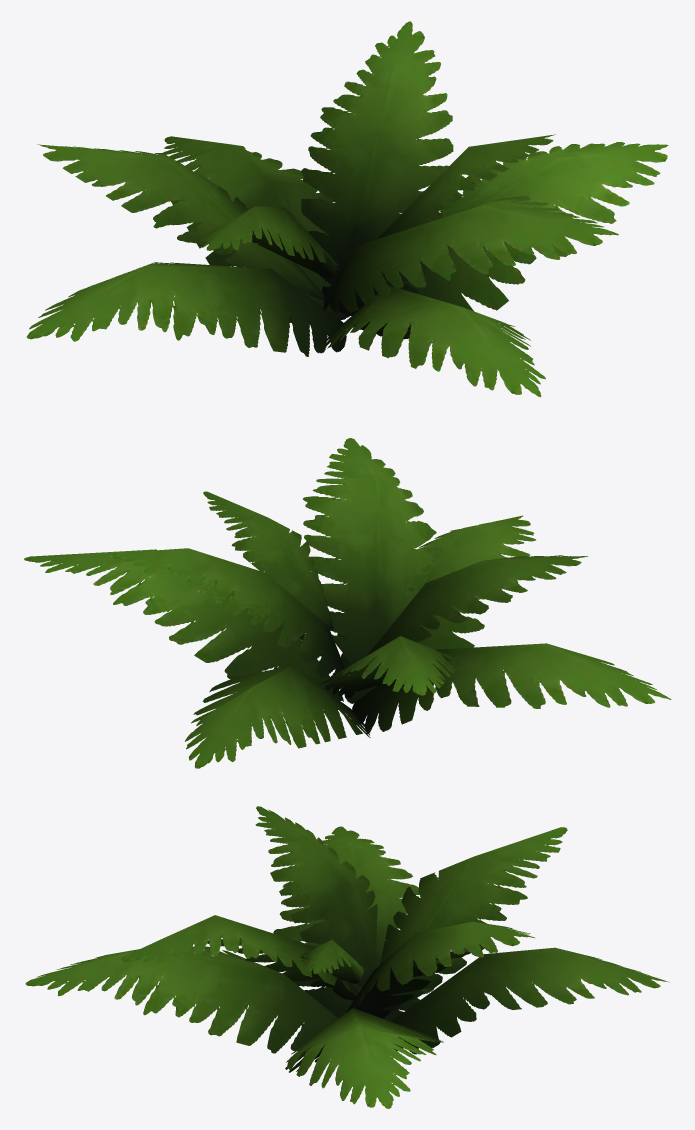
File: fougere.lod1.glb
The picture shows the model from 3 angles, top to bottom: view 1: azimuth 30°, elevation 25°; view 2: azimuth 150°, elevation 25°; view 3: azimuth 270°, elevation 25°; orthographic projection. The views are drawn at different scales.
Parts seen in each view (by area): view 1: Fern_1; view 2: Fern_1; view 3: Fern_1.
Boxes of the visible parts, x1=… form: Fern_1: x1=26, y1=21, x2=668, y2=397; Fern_1: x1=24, y1=438, x2=671, y2=768; Fern_1: x1=25, y1=806, x2=669, y2=1108.
Size of the model in its own units: 2.83 by 0.8404 by 2.65.
Materials: 1 (1 with a texture image).
